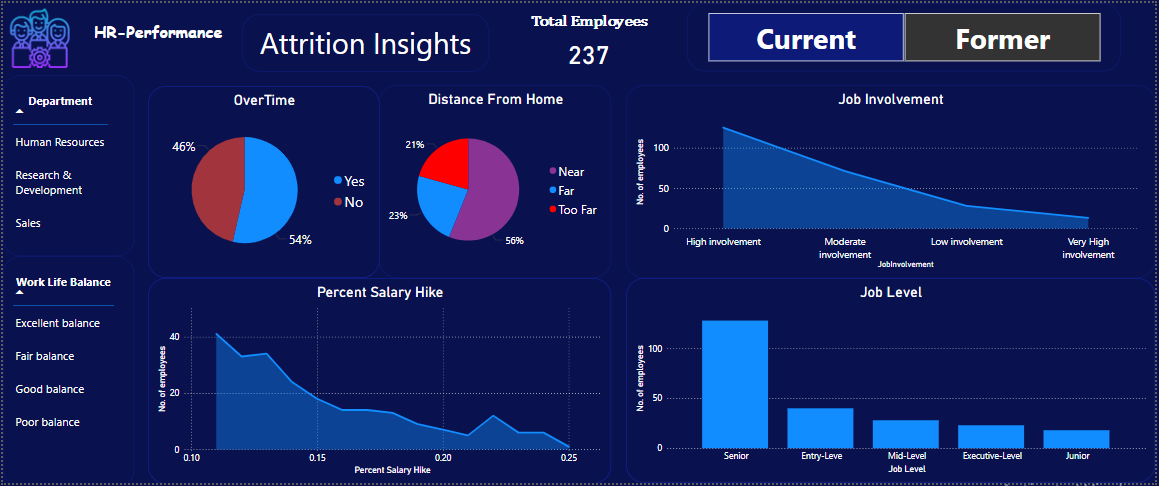

Layout of this report page (visuals, bound fields, positions):
{"tool":"powerbi","page":{"name":"Attrition Insights","canvas":[1920,800],"ordinal":1},"visuals":[{"type":"textbox","box":[118.4,25.2,280.7,73.3],"z":0,"group":"g1"},{"type":"card","fields":{"Values":["CountNonNull(HR-Employee-Attrition.EmployeeNumber)"]},"box":[822.6,49.7,305.4,64.1],"z":0,"group":"g2"},{"type":"tableEx","fields":{"Values":["HR-Employee-Attrition.Department"]},"box":[0,120,219.2,302.4],"z":0},{"type":"image","box":[3.2,3.2,115.2,109.9],"z":1000,"group":"g1"},{"type":"textbox","box":[809.3,10.3,332.1,48.2],"z":2000,"group":"g2"},{"type":"group","id":"g1","title":"Group 4","box":[3.2,3.2,395.9,109.9],"z":3000},{"type":"slicer","title":"Attrition","fields":{"Values":["HR-Employee-Attrition.Attrition"]},"box":[1139.6,0,722.6,113.5],"z":5000},{"type":"group","id":"g2","title":"Group 1","box":[809.3,10.3,330.3,103.2],"z":7000},{"type":"tableEx","fields":{"Values":["HR-Employee-Attrition.Work Life Balance"]},"box":[0,422.4,219.3,386.2],"z":9000},{"type":"textbox","box":[397.9,17.8,412.2,96.4],"z":10000},{"type":"clusteredColumnChart","title":"Job Level","fields":{"Y":["CountNonNull(HR-Employee-Attrition.EmployeeNumber)"],"Category":["HR-Employee-Attrition.Job Level"]},"box":[1038.5,458.3,881.5,340.6],"z":10002},{"type":"areaChart","title":"Percent Salary Hike","fields":{"Category":["HR-Employee-Attrition.Percent Salary Hike"],"Y":["CountNonNull(HR-Employee-Attrition.EmployeeNumber)"]},"box":[241.5,458.3,772.1,342.7],"z":10003},{"type":"pieChart","title":"OverTime","fields":{"Y":["CountNonNull(HR-Employee-Attrition.EmployeeNumber)"],"Category":["HR-Employee-Attrition.OverTime"]},"box":[241.5,138.3,386.1,320],"z":10004},{"type":"pieChart","title":" Distance From Home","fields":{"Category":["HR-Employee-Attrition.Distance From Home"],"Y":["CountNonNull(HR-Employee-Attrition.EmployeeNumber)"]},"box":[627.2,136,387.2,321.6],"z":10005},{"type":"areaChart","title":"Job Involvement","fields":{"Category":["HR-Employee-Attrition.JobInvolvement"],"Y":["CountNonNull(HR-Employee-Attrition.EmployeeNumber)"]},"box":[1038.5,136.3,881.5,322.1],"z":10006}]}

Visuals, with their boxes in screenshot pixels (x1, y1, x2, y2), scaled from the page's 1920x800 canvas onto the 1159x486 screenshot:
textbox: (left=71, top=15, right=241, bottom=60)
card - CountNonNull(HR-Employee-Attrition.EmployeeNumber): (left=497, top=30, right=681, bottom=69)
tableEx - HR-Employee-Attrition.Department: (left=0, top=73, right=132, bottom=257)
image: (left=2, top=2, right=71, bottom=69)
textbox: (left=489, top=6, right=689, bottom=36)
"Group 4" group: (left=2, top=2, right=241, bottom=69)
"Attrition" slicer: (left=688, top=0, right=1124, bottom=69)
"Group 1" group: (left=489, top=6, right=688, bottom=69)
tableEx - HR-Employee-Attrition.Work Life Balance: (left=0, top=257, right=132, bottom=485)
textbox: (left=240, top=11, right=489, bottom=69)
"Job Level" clusteredColumnChart: (left=627, top=278, right=1158, bottom=485)
"Percent Salary Hike" areaChart: (left=146, top=278, right=612, bottom=485)
"OverTime" pieChart: (left=146, top=84, right=379, bottom=278)
" Distance From Home" pieChart: (left=379, top=83, right=612, bottom=278)
"Job Involvement" areaChart: (left=627, top=83, right=1158, bottom=278)
